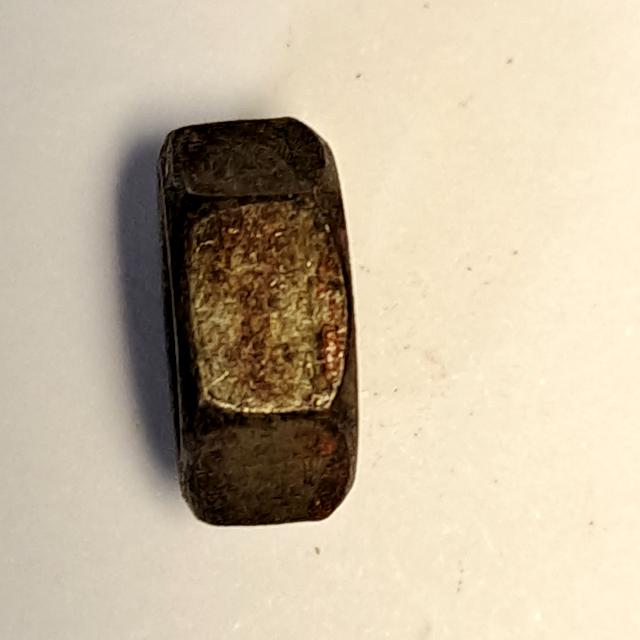Side_Rust: (139, 102, 384, 544)
